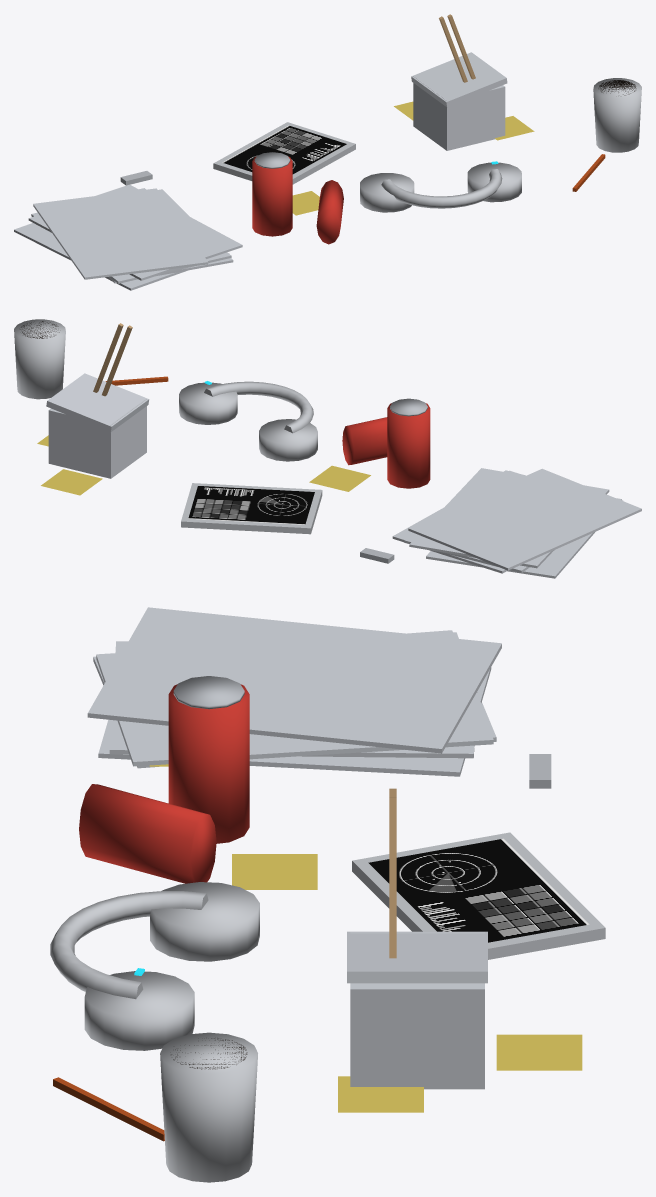
The model's file is Deco_DeskClutter.gltf.
3 views of the same model, one above another, from view 1: azimuth 30°, elevation 25°; view 2: azimuth 150°, elevation 25°; view 3: azimuth 270°, elevation 25° (orthographic). The views are drawn at different scales.
Parts seen in each view (by area): view 1: Deco_DeskClutter; view 2: Deco_DeskClutter; view 3: Deco_DeskClutter.
Boxes of the visible parts, x1=… form: Deco_DeskClutter: x1=14, y1=14, x2=641, y2=290; Deco_DeskClutter: x1=14, y1=319, x2=641, y2=578; Deco_DeskClutter: x1=50, y1=607, x2=605, y2=1182.
Size of the model in its own units: 1.07 by 0.2274 by 0.453.
Materials: 10 (1 with a texture image).
